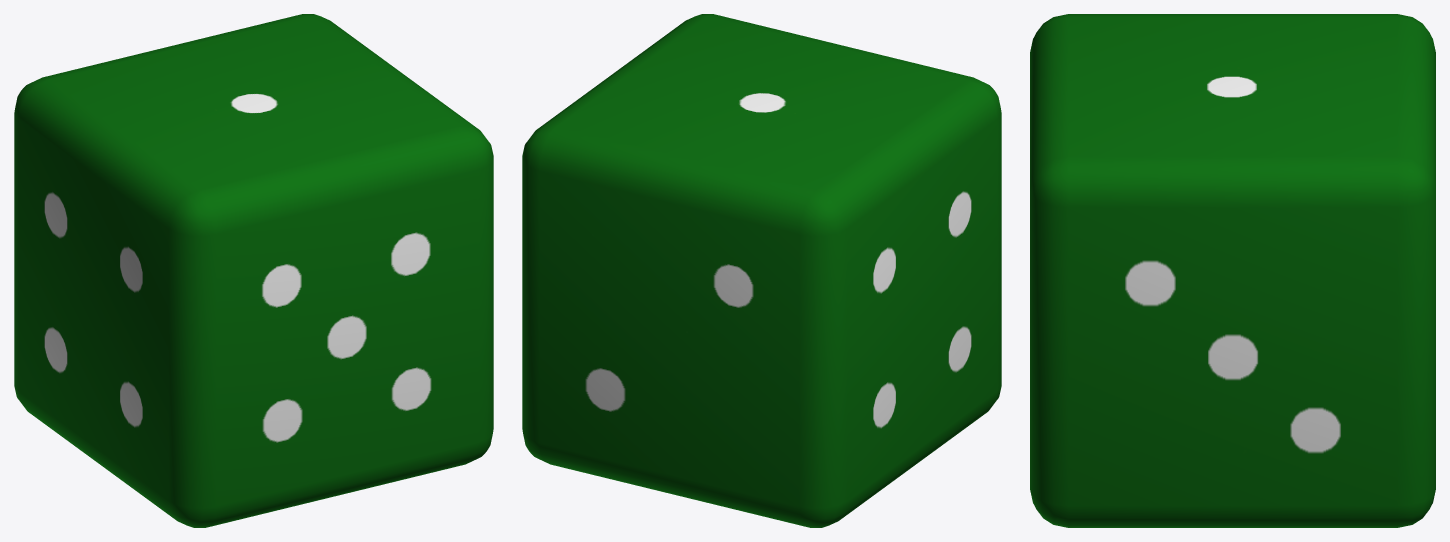
The model's file is dice.obj.
The picture shows the model from 3 angles, left to right: view 1: azimuth 30°, elevation 25°; view 2: azimuth 150°, elevation 25°; view 3: azimuth 270°, elevation 25°; orthographic projection. The views are drawn at different scales.
Parts seen in each view (by area): view 1: Cube; view 2: Cube; view 3: Cube.
Boxes of the visible parts, bbox=[...] form: Cube: bbox=[14, 14, 493, 527]; Cube: bbox=[522, 14, 1001, 527]; Cube: bbox=[1030, 14, 1435, 527].
Size of the model in its own units: 2 by 2 by 2.
1 material, 1 textured.
